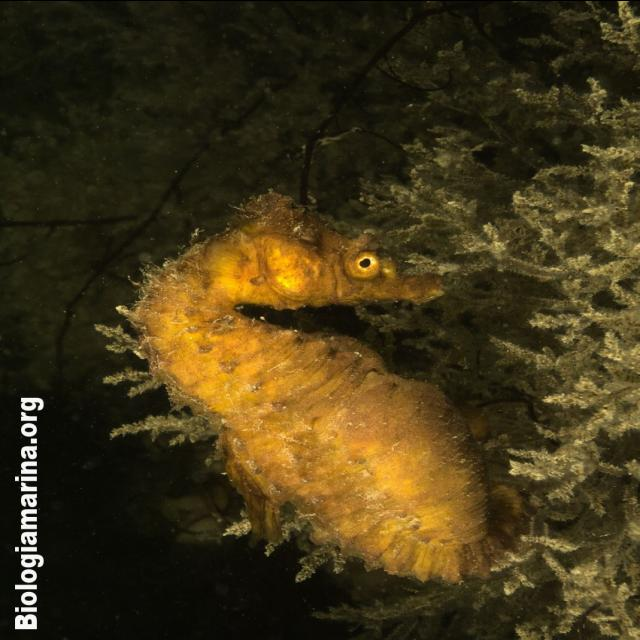Hippo: (212, 182, 460, 312)
